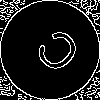C: (25, 25, 84, 83)
